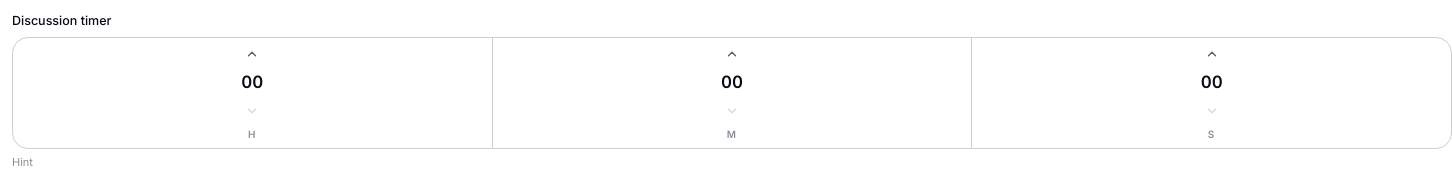
TimerDurationFields › steps minutes with the arrows
What coordinates should you click on to do the following:
click the button named "Increase Discussion timer minutes"
I would click on:
 (732, 54)
Its box is [497,40,967,68].
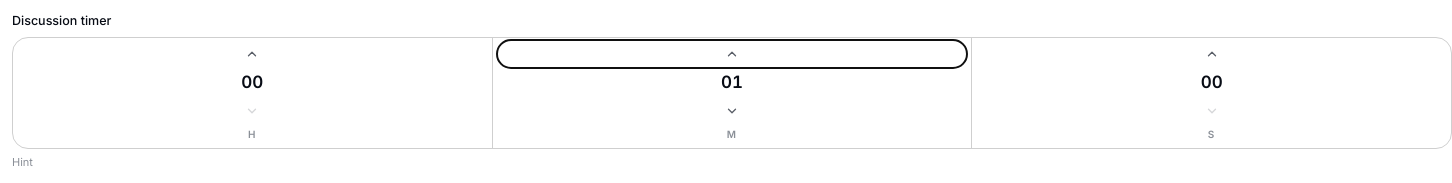
expect the number field named "Discussion timer minutes" holds "01": met, box [497,68,967,97]
What coordinates should you click on to do the following:
click the button named "Decrease Discussion timer minutes"
I would click on:
 (732, 111)
Its box is [497,97,967,125].
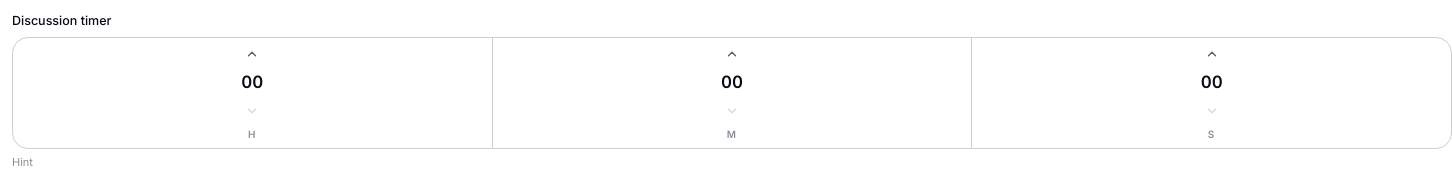
expect the number field named "Discussion timer minutes" holds "00": met, box [497,68,967,97]
